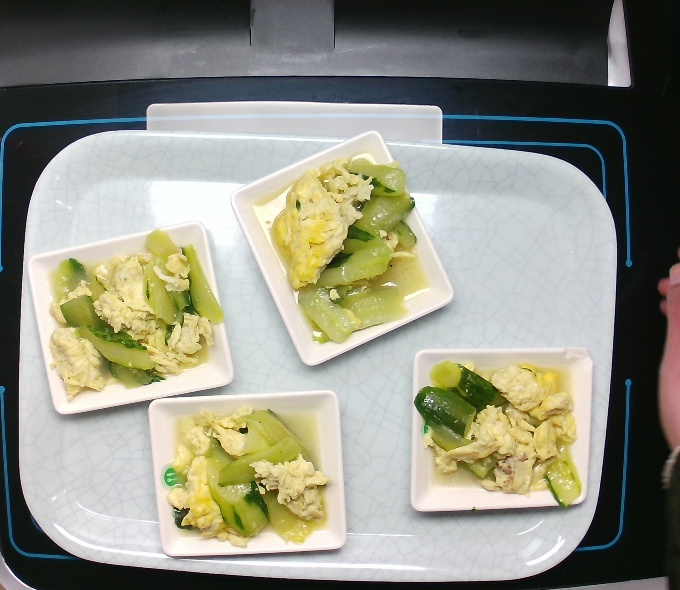wcq-DanHuangHuangGua: (246, 153, 437, 343), (36, 238, 226, 408), (402, 342, 592, 512), (150, 393, 336, 549)
